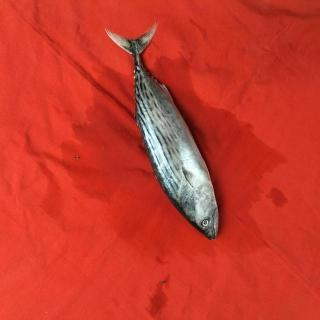Ikan: (100, 14, 232, 246)
